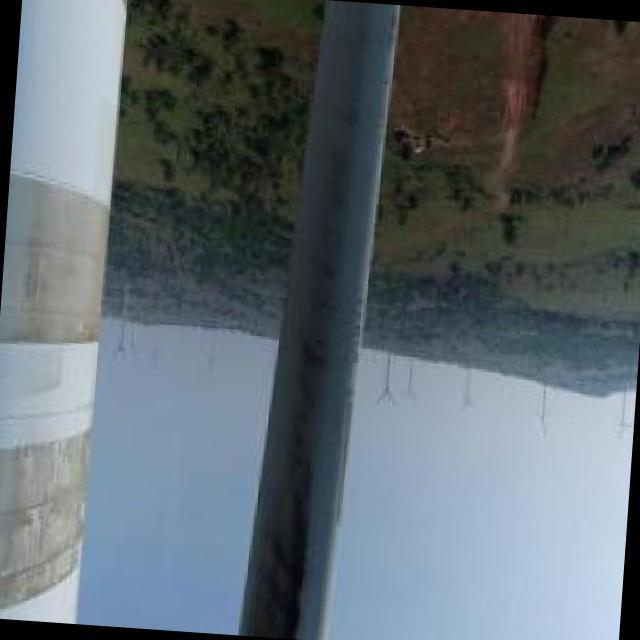Dirt: (242, 9, 408, 640), (0, 174, 120, 608)
